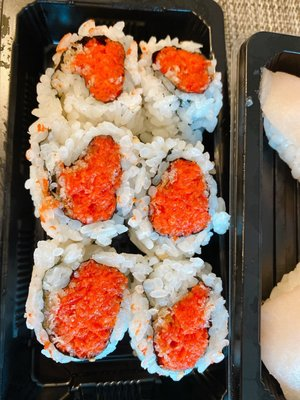soup: (21, 19, 232, 394)
